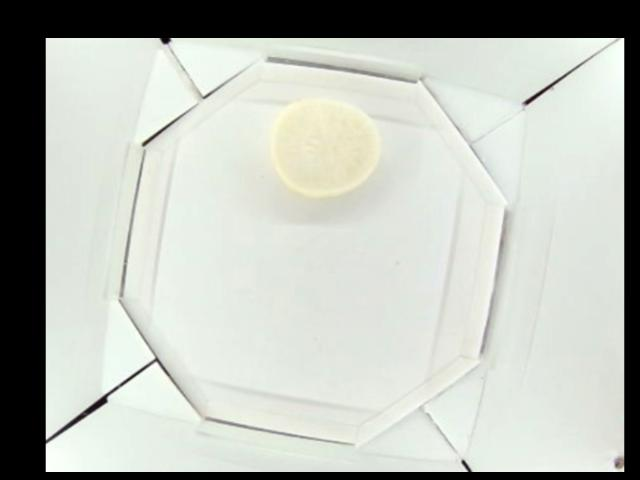Mooli: (271, 99, 380, 197)
